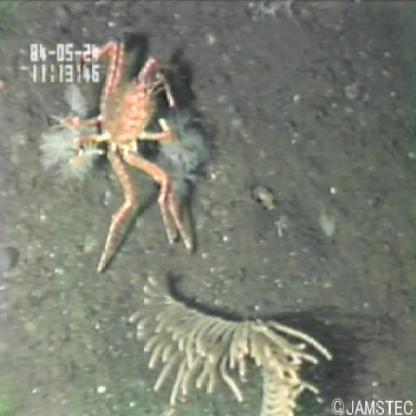Bio: (34, 34, 198, 280), (123, 270, 335, 416)
